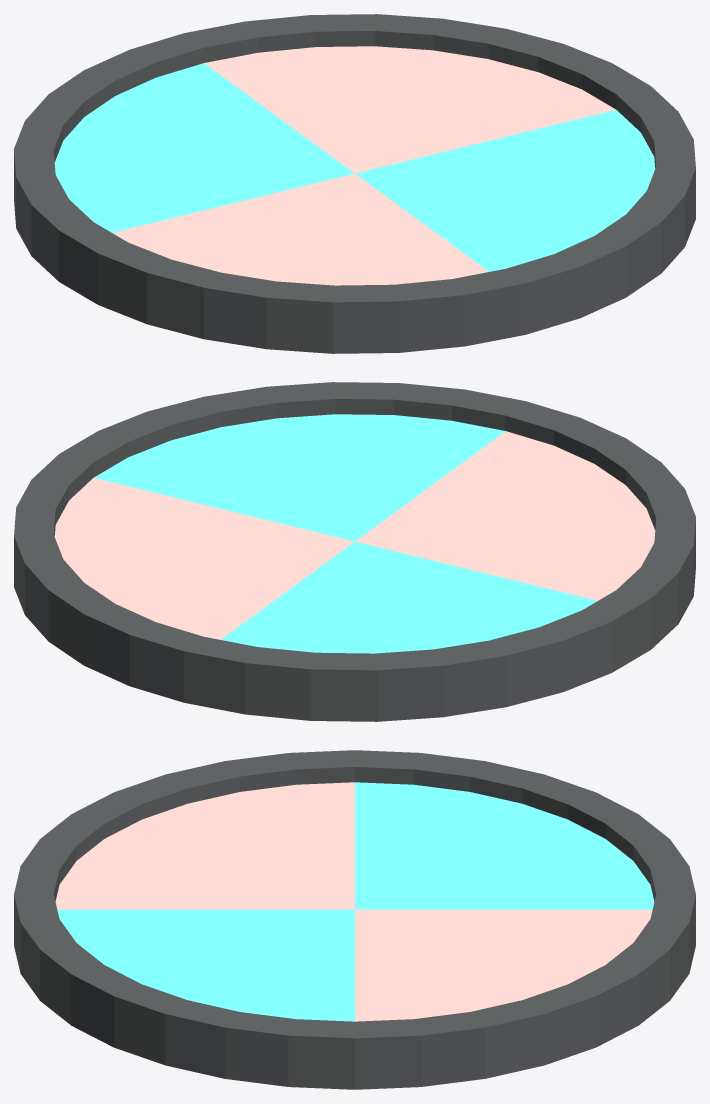
File: Esy_Disc_LODGroup.fbx
3 renders of one model, top to bottom at view 1: azimuth 30°, elevation 25°; view 2: azimuth 150°, elevation 25°; view 3: azimuth 270°, elevation 25°, orthographic.
Visible parts, largest first — view 1: ESY Disc_LOD0; view 2: ESY Disc_LOD0; view 3: ESY Disc_LOD0.
Boxes of the visible parts, x1,y1,x2,y2 form: ESY Disc_LOD0: (14,14,695,353); ESY Disc_LOD0: (14,382,695,721); ESY Disc_LOD0: (14,750,695,1089).
Size of what is drawn, in the model's own units: 85.04 by 7.07 by 85.04.
